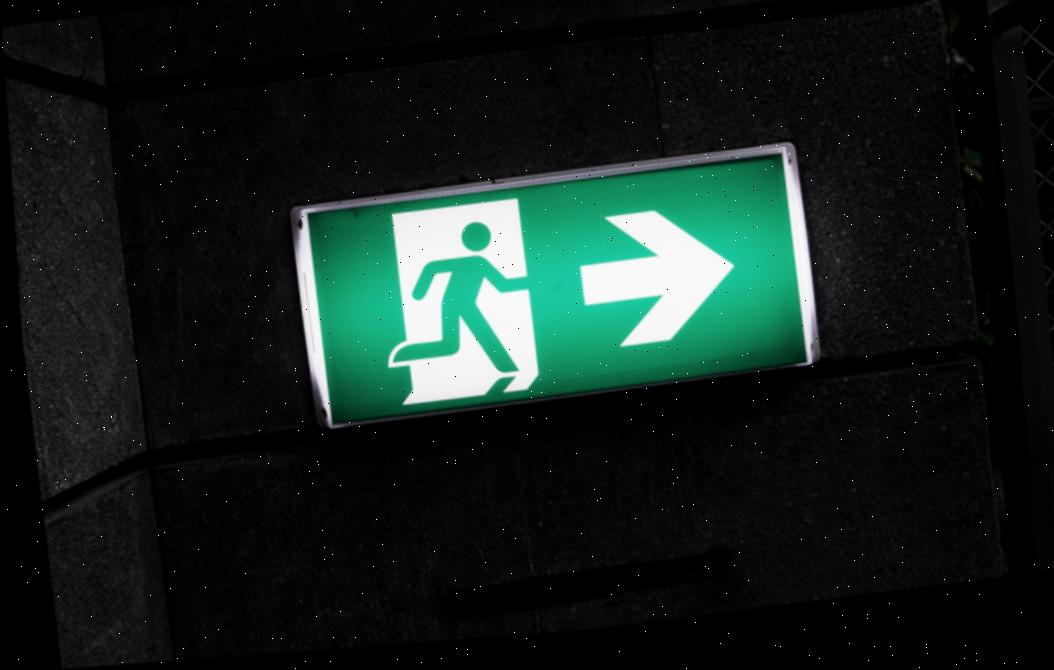emergency_exit: (289, 141, 821, 430)
